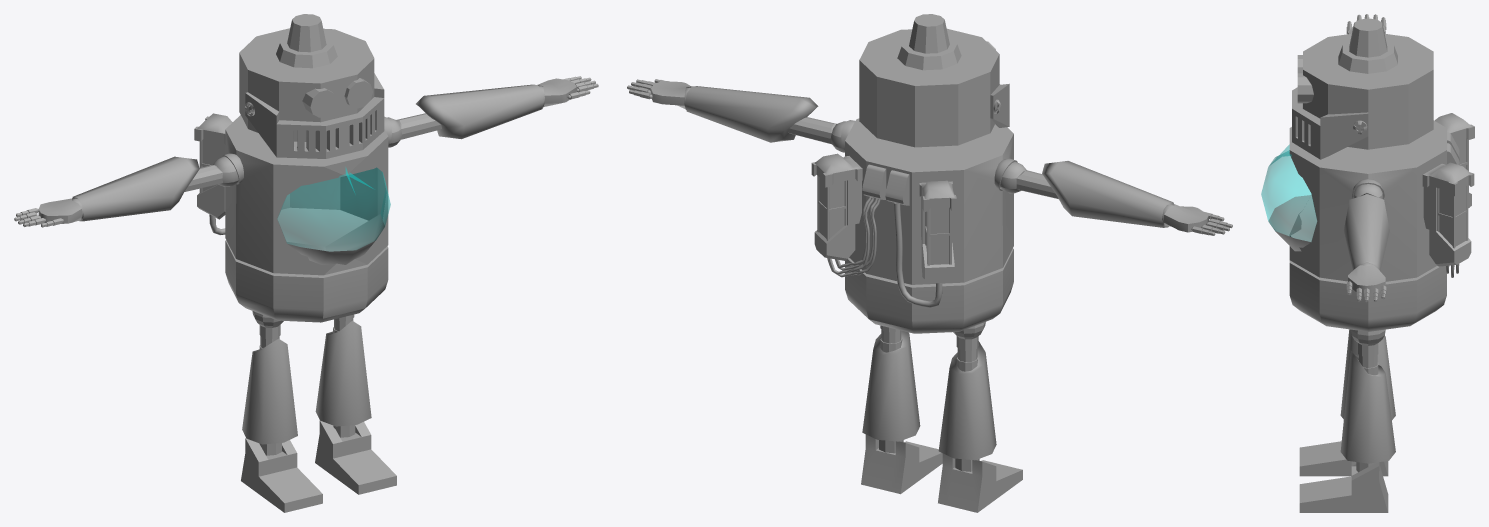
The model's file is robot.fbx.
The picture shows the model from 3 angles, left to right: view 1: azimuth 30°, elevation 25°; view 2: azimuth 150°, elevation 25°; view 3: azimuth 270°, elevation 25°; orthographic projection. The views are drawn at different scales.
Parts seen in each view (by area): view 1: pCube286, pCylinder145, pCube270, pCube264, pCube285, pCylinder149, pCube271, pCube255, pCube287, pCube261, pCube266, pCylinder148 (+1 smaller); view 2: pCube286, pCylinder145, pCube270, pCube264, pCylinder149, pCube271, pCube287, pCube288, pCube261, pCube266, pSphere30, wire1 (+2 smaller); view 3: pCube286, pCylinder145, pCylinder149, pCube270, pCube271, pCube285, pCube287, pCube255, pCube264, pCube288, pSphere30, pCube266 (+2 smaller).
Boxes of the visible parts, bbox=[...] form: pCube286: bbox=[225, 115, 388, 275]; pCylinder145: bbox=[239, 14, 374, 141]; pCube270: bbox=[242, 320, 371, 455]; pCube264: bbox=[72, 84, 543, 221]; pCube285: bbox=[277, 168, 390, 264]; pCylinder149: bbox=[225, 240, 388, 322]; pCube271: bbox=[241, 420, 396, 512]; pCube255: bbox=[245, 73, 384, 158]; pCube287: bbox=[194, 113, 232, 219]; pCube261: bbox=[184, 113, 441, 191]; pCube266: bbox=[38, 78, 576, 223]; pCylinder148: bbox=[302, 78, 372, 117]; pCube286: bbox=[845, 118, 1013, 284]; pCylinder145: bbox=[859, 14, 999, 147]; pCube270: bbox=[862, 330, 996, 471]; pCube264: bbox=[685, 86, 1173, 227]; pCylinder149: bbox=[845, 248, 1013, 333]; pCube271: bbox=[861, 434, 1022, 512]; pCube287: bbox=[811, 153, 956, 283]; pCube288: bbox=[817, 176, 951, 265]; pCube261: bbox=[788, 117, 1058, 199]; pCube266: bbox=[651, 81, 1208, 232]; pSphere30: bbox=[880, 322, 985, 371]; wire1: bbox=[827, 196, 880, 277]; pCube286: bbox=[1289, 120, 1459, 281]; pCylinder145: bbox=[1303, 18, 1433, 149]; pCylinder149: bbox=[1289, 260, 1446, 331]; pCube270: bbox=[1340, 329, 1395, 472]; pCube271: bbox=[1299, 441, 1388, 512]; pCube285: bbox=[1261, 145, 1317, 251]; pCube287: bbox=[1422, 113, 1474, 266]; pCube255: bbox=[1292, 87, 1368, 159]; pCube264: bbox=[1343, 193, 1389, 270]; pCube288: bbox=[1437, 138, 1468, 248]; pSphere30: bbox=[1351, 329, 1385, 375]; pCube266: bbox=[1348, 25, 1385, 293].
Bounding box in the file's own units: 2.06 × 1.55 × 0.6531.
